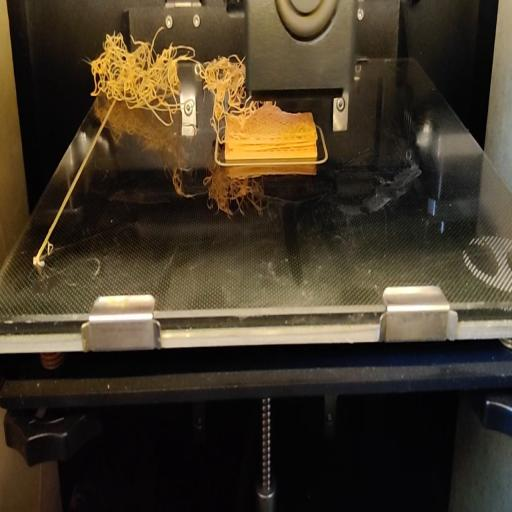spaghetti: (88, 26, 181, 128), (200, 49, 244, 134), (179, 43, 198, 75)
